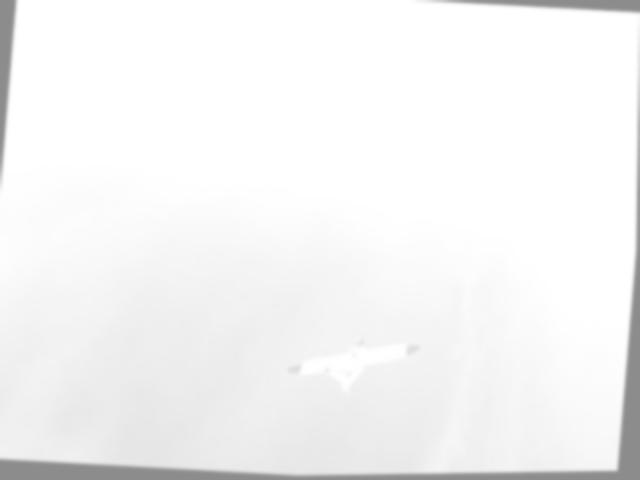hedef: (269, 321, 433, 411)
